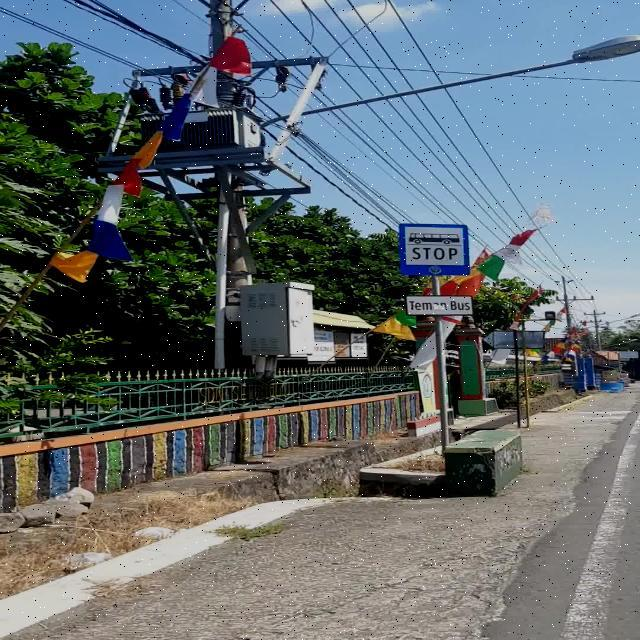Pemberhentian Bus: (398, 223, 470, 276)
